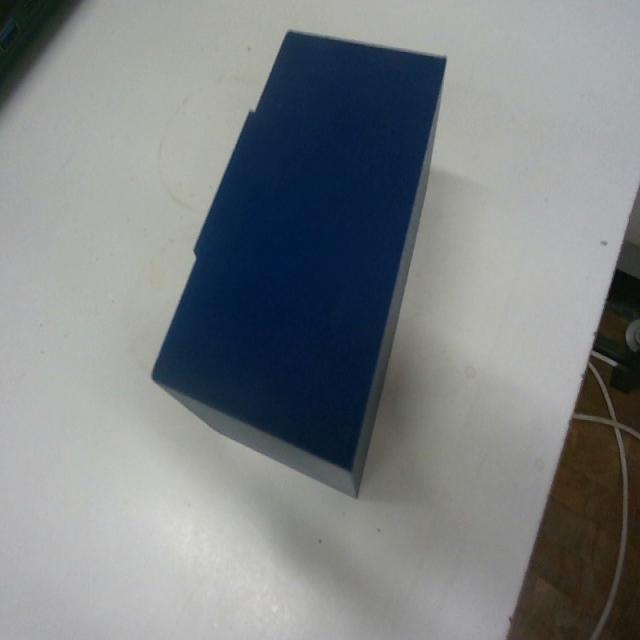Blue Cuboid: (150, 26, 447, 498)
